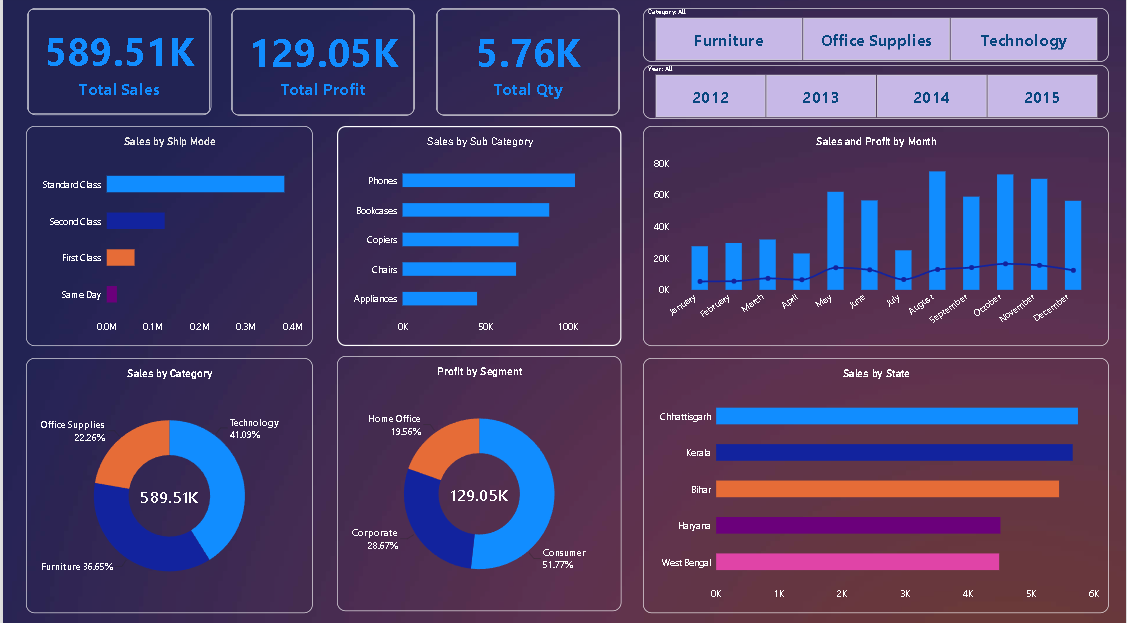

Layout of this report page (visuals, bound fields, positions):
{"tool":"powerbi","page":{"name":"Page 1","canvas":[1920,1080],"ordinal":0},"visuals":[{"type":"lineClusteredColumnComboChart","title":"Sales and Profit by Month","fields":{"Category":["Data.Order Date.Variation.Date Hierarchy.Month"],"Y":["Sum(Data.Sales)"],"Y2":["Sum(Data.Profit)"]},"box":[1094,222,796,376],"z":0},{"type":"barChart","title":"Sales by State","fields":{"Category":["Data.State"],"Series":["Data.State"],"Y":["Sum(Data.Sales)"]},"box":[1094,618,796,436],"z":1000},{"type":"donutChart","title":"Sales by Category ","fields":{"Category":["Data.Category"],"Y":["Sum(Data.Sales)"]},"box":[40,618,490,436],"z":2000},{"type":"donutChart","title":"Profit by Segment ","fields":{"Category":["Data.Segment"],"Y":["Sum(Data.Profit)"]},"box":[570,616,486,436],"z":3000},{"type":"barChart","title":"Sales by Ship Mode","fields":{"Category":["Data.Ship Mode"],"Series":["Data.Ship Mode"],"Y":["Sum(Data.Sales)"]},"box":[40,222,490,376],"z":4000},{"type":"barChart","title":"Sales by Sub Category","fields":{"Category":["Data.Sub-Category"],"Y":["Sum(Data.Sales)"]},"box":[570,222,486,376],"z":5000},{"type":"cardVisual","fields":{"Data":["Sum(Data.Sales)"]},"box":[40.7,20.4,314.8,183.3],"z":6000},{"type":"cardVisual","fields":{"Data":["Sum(Data.Profit)"]},"box":[388.8,20.4,314,184],"z":7000},{"type":"cardVisual","fields":{"Data":["Sum(Data.Quantity)"]},"box":[740.6,20.4,314,184],"z":7001},{"type":"slicer","fields":{"Values":["Data.Category"]},"box":[1094,20,796,92],"z":7002},{"type":"slicer","fields":{"Values":["Data.Order Date.Variation.Date Hierarchy.Year"]},"box":[1094,118,796,92],"z":7003}]}

Visuals, with their boxes in screenshot pixels (x1, y1, x2, y2), scaled from the page's 1920x1080 canvas onto the 1127x623 screenshot:
"Sales and Profit by Month" lineClusteredColumnComboChart: l=642, t=128, r=1109, b=345
"Sales by State" barChart: l=642, t=356, r=1109, b=608
"Sales by Category " donutChart: l=23, t=356, r=311, b=608
"Profit by Segment " donutChart: l=335, t=355, r=620, b=607
"Sales by Ship Mode" barChart: l=23, t=128, r=311, b=345
"Sales by Sub Category" barChart: l=335, t=128, r=620, b=345
cardVisual - Sum(Data.Sales): l=24, t=12, r=209, b=118
cardVisual - Sum(Data.Profit): l=228, t=12, r=413, b=118
cardVisual - Sum(Data.Quantity): l=435, t=12, r=619, b=118
slicer - Data.Category: l=642, t=12, r=1109, b=65
slicer - Data.Order Date.Variation.Date Hierarchy.Year: l=642, t=68, r=1109, b=121
